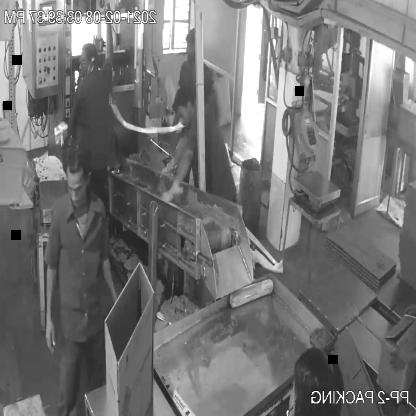glove: (152, 149, 198, 220)
no_glove: (36, 248, 66, 354), (94, 239, 122, 311)
